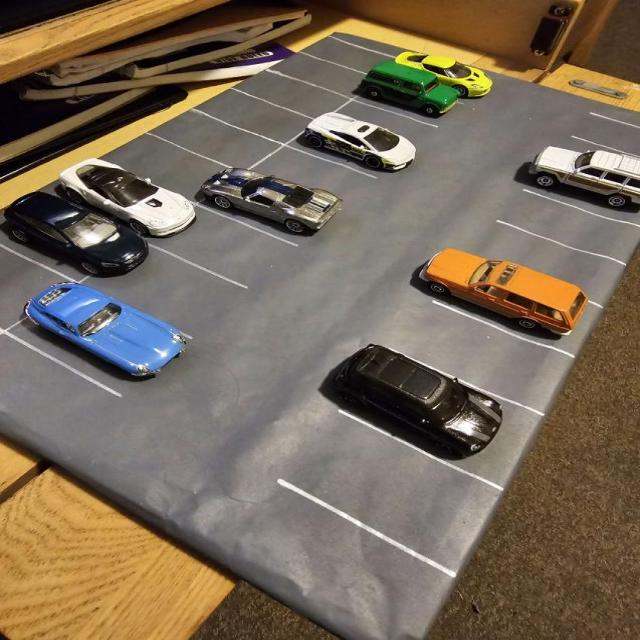Empty: (269, 410, 511, 579), (385, 299, 583, 422), (70, 240, 257, 339), (142, 202, 301, 292), (468, 219, 628, 308), (495, 188, 640, 268), (149, 107, 286, 172), (247, 143, 378, 210), (193, 88, 324, 147), (3, 242, 80, 336), (232, 68, 358, 123), (265, 52, 377, 100), (300, 36, 404, 76), (570, 113, 640, 159)
Taken: (332, 341, 548, 494), (0, 282, 202, 401), (425, 247, 603, 360), (42, 157, 198, 235), (193, 169, 345, 245), (520, 145, 640, 228), (282, 114, 422, 179), (350, 71, 468, 128), (377, 55, 498, 105)
